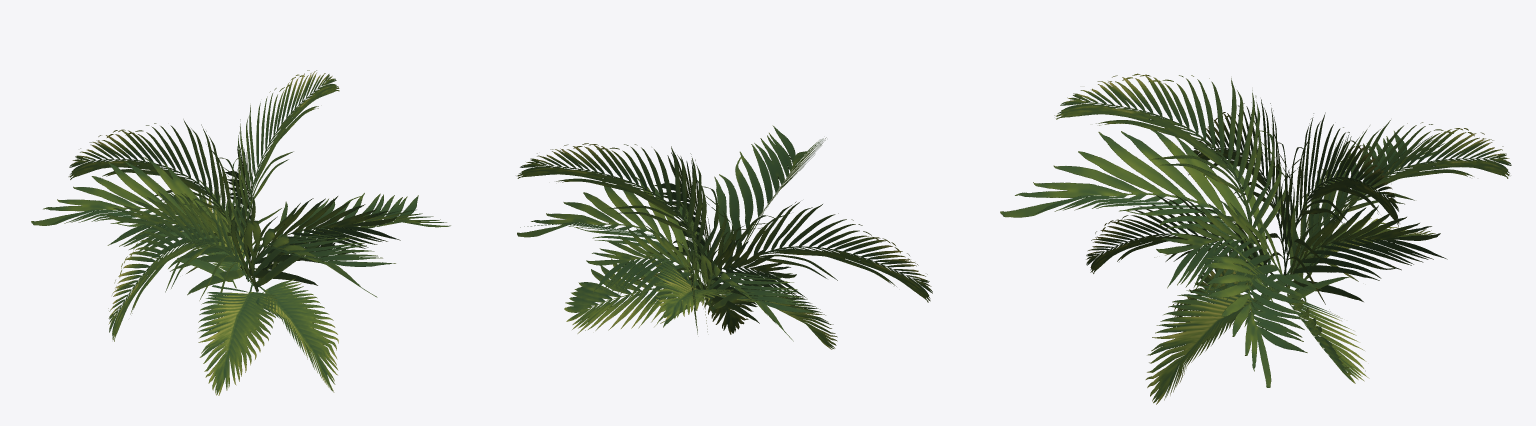
The model's file is PalmMedium.fbx.
3 renders of one model, left to right at view 1: azimuth 30°, elevation 25°; view 2: azimuth 150°, elevation 25°; view 3: azimuth 270°, elevation 25°, orthographic. The views are drawn at different scales.
Visible parts, largest first — view 1: PalmMedium; view 2: PalmMedium; view 3: PalmMedium.
Boxes of the visible parts, x1=… form: PalmMedium: x1=31, y1=70, x2=450, y2=395; PalmMedium: x1=517, y1=125, x2=932, y2=349; PalmMedium: x1=1000, y1=73, x2=1511, y2=404.
Size of the model in its own units: 530 by 388 by 514.
